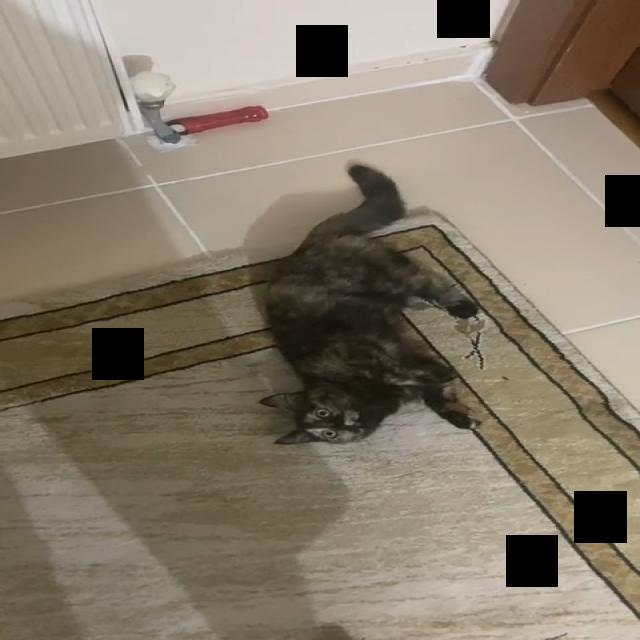authorized: (256, 160, 483, 444)
